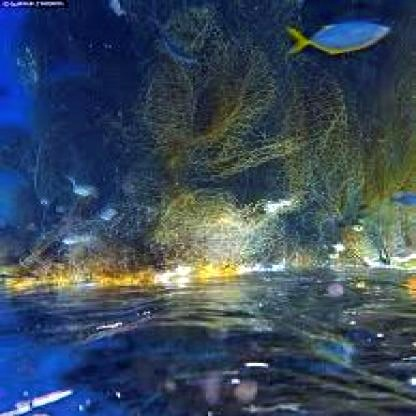net: (54, 2, 371, 276)
